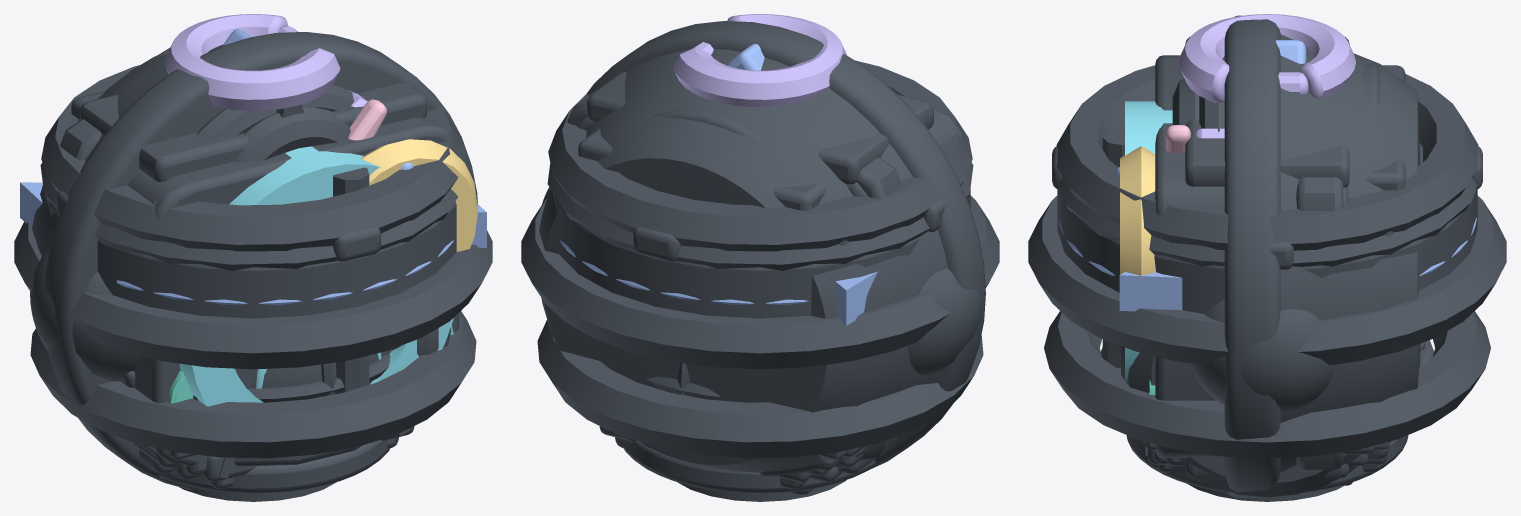
Rendered from econ-node-library.glb.
The picture shows the model from 3 angles, left to right: view 1: azimuth 30°, elevation 25°; view 2: azimuth 150°, elevation 25°; view 3: azimuth 270°, elevation 25°; orthographic projection.
Parts seen in each view (by area): view 1: liquidity__body, policy_rate__body, fed_rate__body, household_debt__accent, tech__body, policy_rate__accent, geopolitics__body, gdp__body, consumption__body, oil__accent, oil__body, global_growth__body (+9 smaller); view 2: liquidity__body, policy_rate__body, fed_rate__body, household_debt__accent, oil__body, geopolitics__body, gdp__body, fx__accent, commodity__body, bank_lending__body, consumer_conf__body, capital_flows__body (+4 smaller); view 3: liquidity__body, policy_rate__body, fed_rate__body, household_debt__accent, oil__body, tech__body, geopolitics__body, oil__accent, defaults__body, fx__accent, commodity__body, policy_rate__accent (+7 smaller).
Part boxes in pixels (x1,y1,x2,y2): liquidity__body: [14, 65, 492, 458]; policy_rate__body: [32, 32, 477, 489]; fed_rate__body: [40, 162, 458, 318]; household_debt__accent: [165, 14, 340, 110]; tech__body: [127, 115, 459, 464]; policy_rate__accent: [179, 146, 453, 406]; geopolitics__body: [80, 82, 426, 473]; gdp__body: [158, 440, 390, 493]; consumption__body: [206, 107, 398, 489]; oil__accent: [362, 139, 477, 251]; oil__body: [30, 251, 139, 381]; global_growth__body: [248, 352, 390, 402]; liquidity__body: [521, 60, 999, 458]; policy_rate__body: [539, 21, 985, 472]; fed_rate__body: [547, 162, 973, 318]; household_debt__accent: [673, 14, 846, 106]; oil__body: [542, 187, 981, 375]; geopolitics__body: [587, 72, 933, 473]; gdp__body: [623, 440, 875, 493]; fx__accent: [559, 240, 877, 325]; commodity__body: [567, 94, 901, 460]; bank_lending__body: [578, 128, 826, 210]; consumer_conf__body: [653, 107, 814, 495]; capital_flows__body: [677, 480, 846, 501]; liquidity__body: [1028, 65, 1506, 458]; policy_rate__body: [1224, 15, 1420, 497]; fed_rate__body: [1052, 145, 1482, 370]; household_debt__accent: [1179, 14, 1355, 102]; oil__body: [1189, 299, 1336, 410]; tech__body: [1155, 55, 1350, 458]; geopolitics__body: [1185, 36, 1349, 477]; oil__accent: [1120, 146, 1155, 275]; defaults__body: [1121, 346, 1360, 497]; fx__accent: [1058, 217, 1476, 311]; commodity__body: [1296, 177, 1343, 469]; policy_rate__accent: [1125, 101, 1172, 383].
Size of the model in its own units: 2.01 by 1.99 by 1.97.
